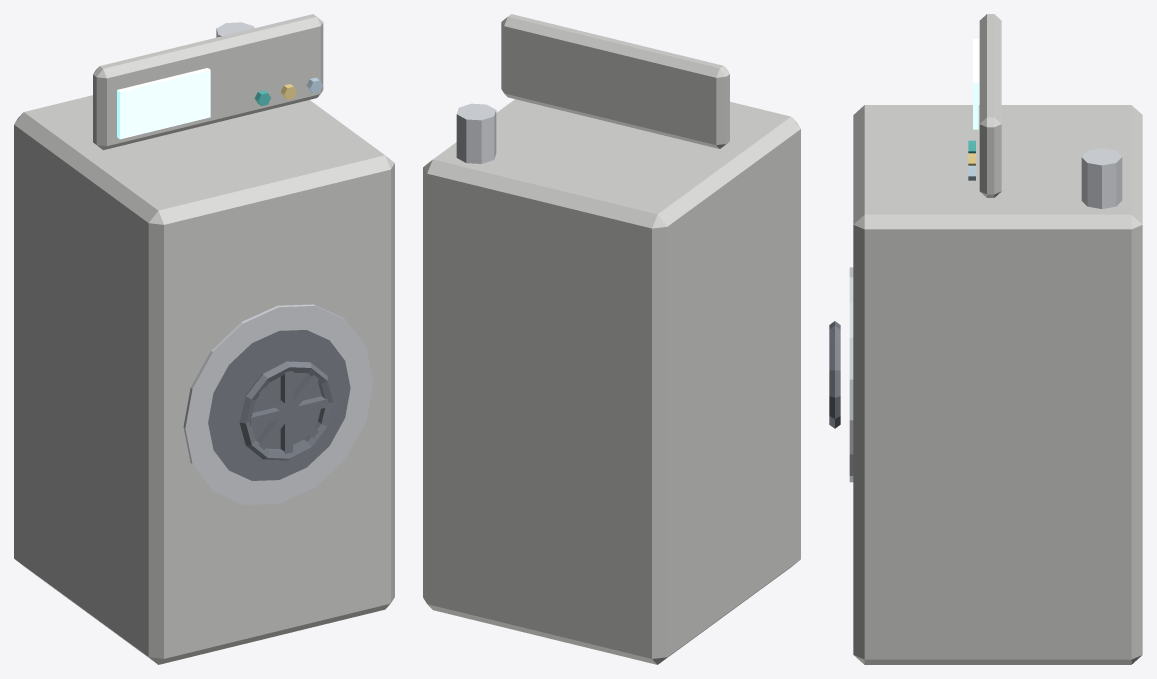
File: medical-23625.glb
3 renders of one model, left to right at view 1: azimuth 30°, elevation 25°; view 2: azimuth 150°, elevation 25°; view 3: azimuth 270°, elevation 25°, orthographic.
Visible parts, largest first — view 1: autoclave; view 2: autoclave; view 3: autoclave.
Part boxes in pixels (box(x1,y1,x2,y2)): autoclave: box(14, 14, 394, 664); autoclave: box(423, 14, 800, 664); autoclave: box(829, 14, 1142, 664).
Bounding box in the file's own units: 0.76 × 1.62 × 0.8452.
